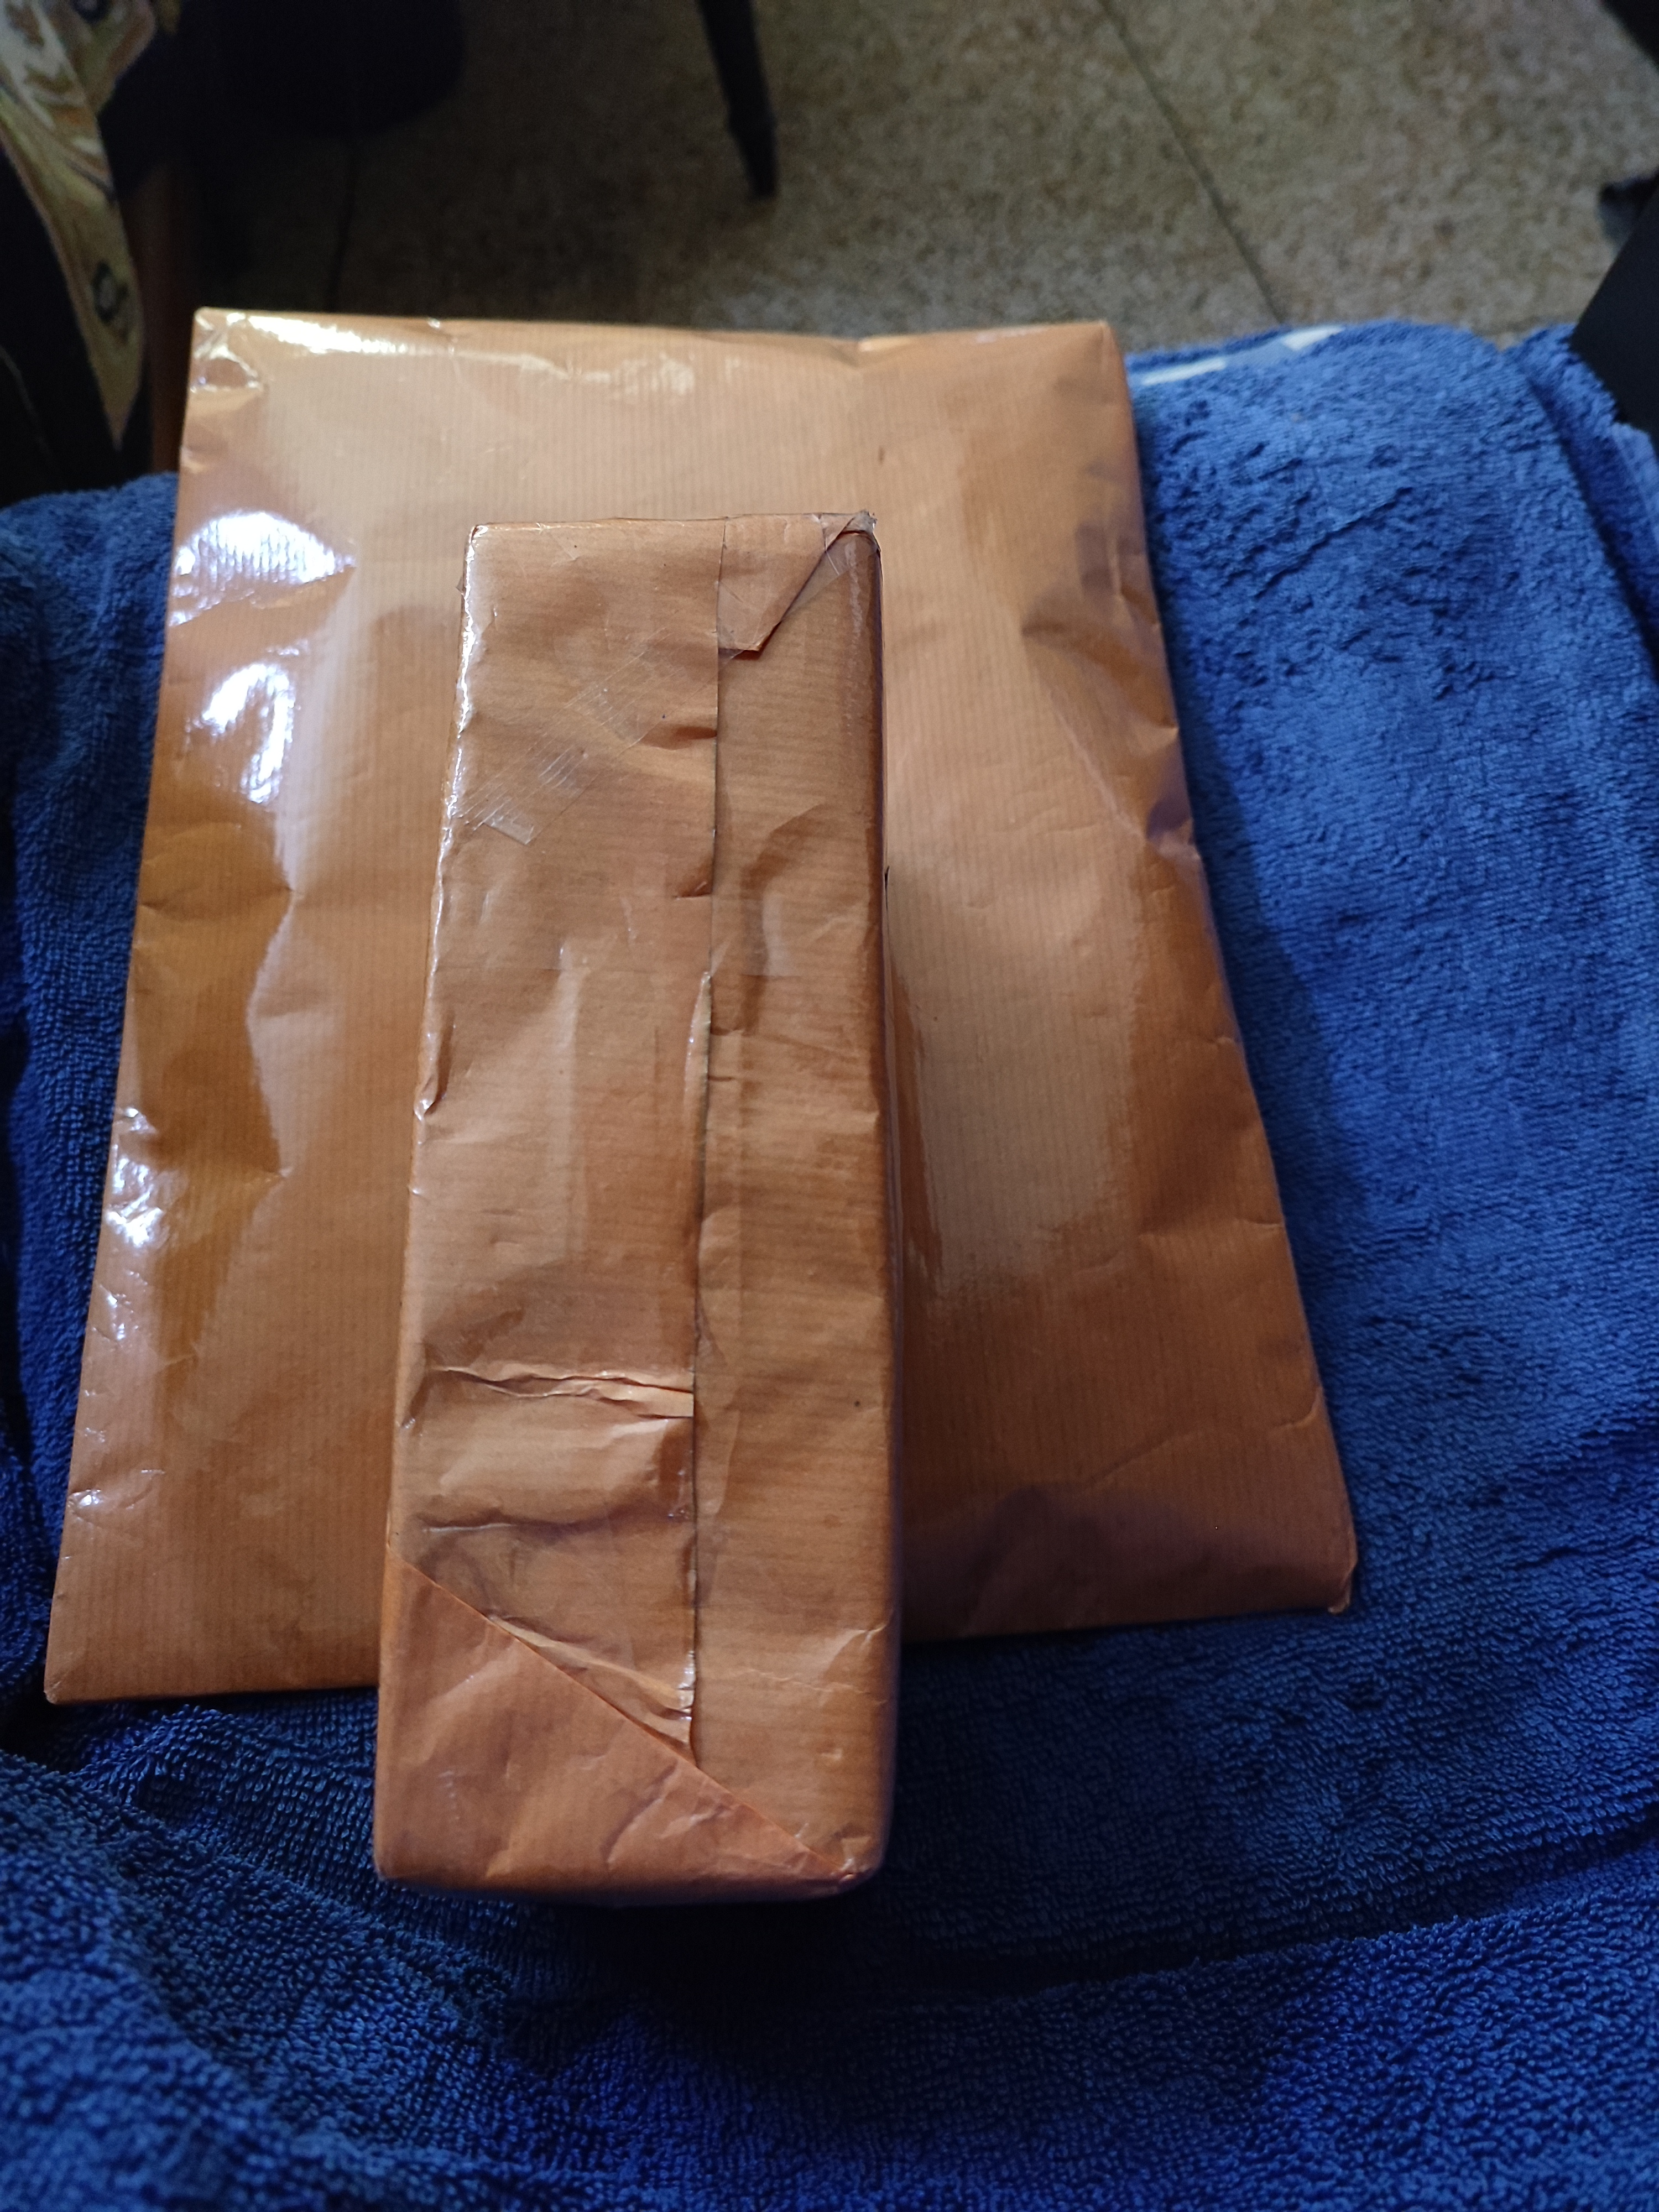Box: (77, 188, 1335, 1822), (387, 453, 932, 2017)
